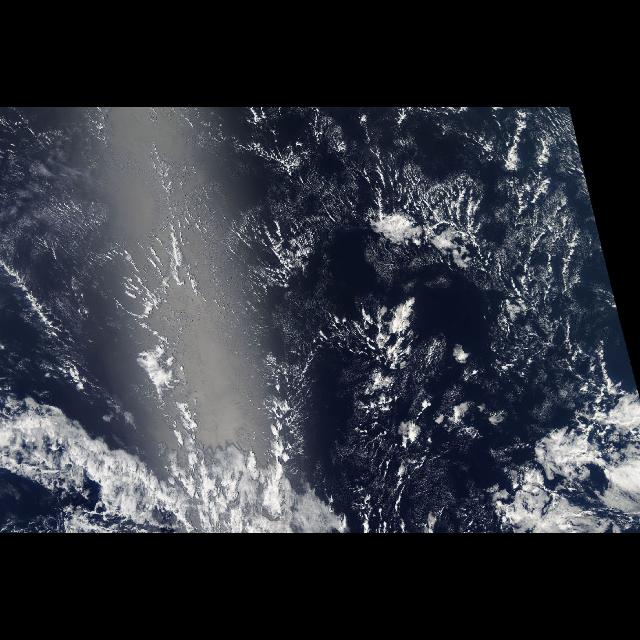Fish: (2, 118, 634, 392), (1, 398, 222, 532)
Sugar: (1, 110, 263, 306)
